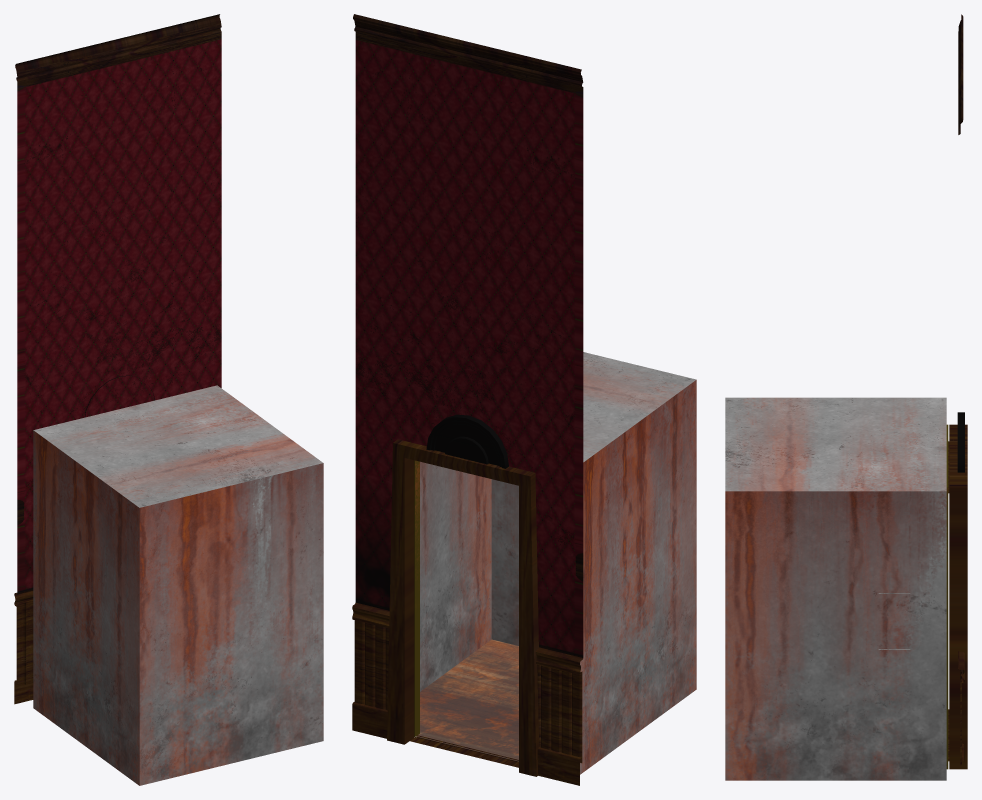
The model's file is Elevator.fbx.
3 views of the same model, side by side, from view 1: azimuth 30°, elevation 25°; view 2: azimuth 150°, elevation 25°; view 3: azimuth 270°, elevation 25° (orthographic). The views are drawn at different scales.
Parts seen in each view (by area): view 1: polySurface4, polySurface2; view 2: polySurface2, polySurface4; view 3: polySurface4, polySurface2.
Boxes of the visible parts, x1,y1,x2,y2 form: polySurface4: [33, 385, 323, 785]; polySurface2: [14, 14, 221, 704]; polySurface2: [352, 14, 583, 785]; polySurface4: [414, 352, 696, 774]; polySurface4: [725, 397, 948, 780]; polySurface2: [948, 14, 967, 769].
Bounding box in the file's own units: 200 × 603 × 197.
